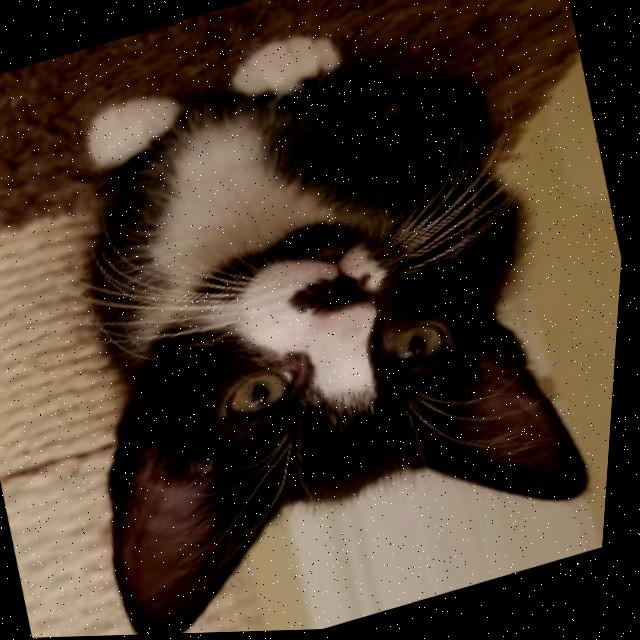Tuxedo: (0, 0, 637, 639)
